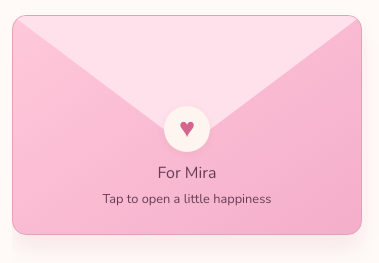
Test: opens personalized letters safely and replays
The image size is (379, 263).
What coordinates should you click on to do the following:
click the button with aria-label "Open your envelope"
I would click on:
 (187, 125)
Its box is [12,15,362,235].
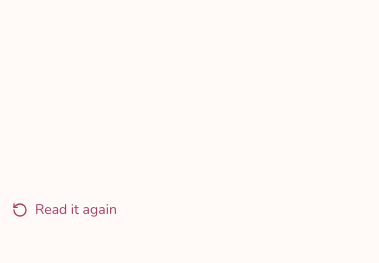
What coordinates should you click on to do the following:
click the button "Read it again"
I would click on:
 (64, 210)
Its box is [12,189,117,230].
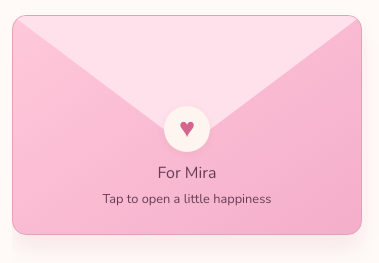
Check: the button with aria-label "Open your envelope" is shown
